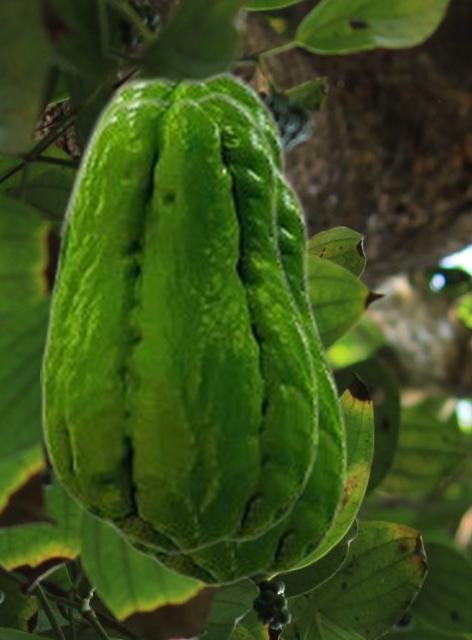sayote: (40, 90, 319, 555), (104, 164, 347, 587), (45, 70, 326, 349)
